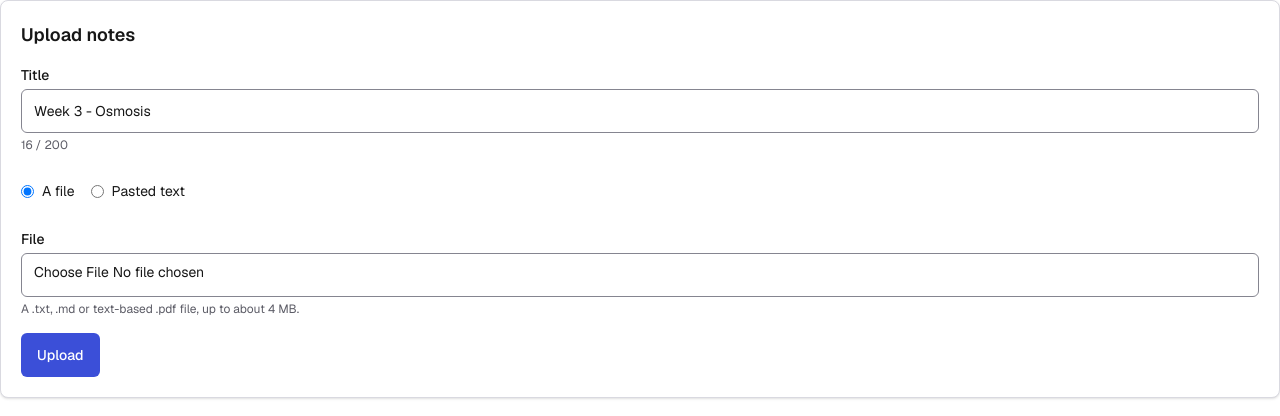
UploadForm › sends the chosen file, with the title taken from its name
The width and height of the screenshot is (1280, 416).
Earlier steps of the test are not shown.
Expected: the field labelled "Title" holds "Week 3 - Osmosis", [21,89,1259,133]
Click the button "Upload": [60, 355] box [21,333,100,377]
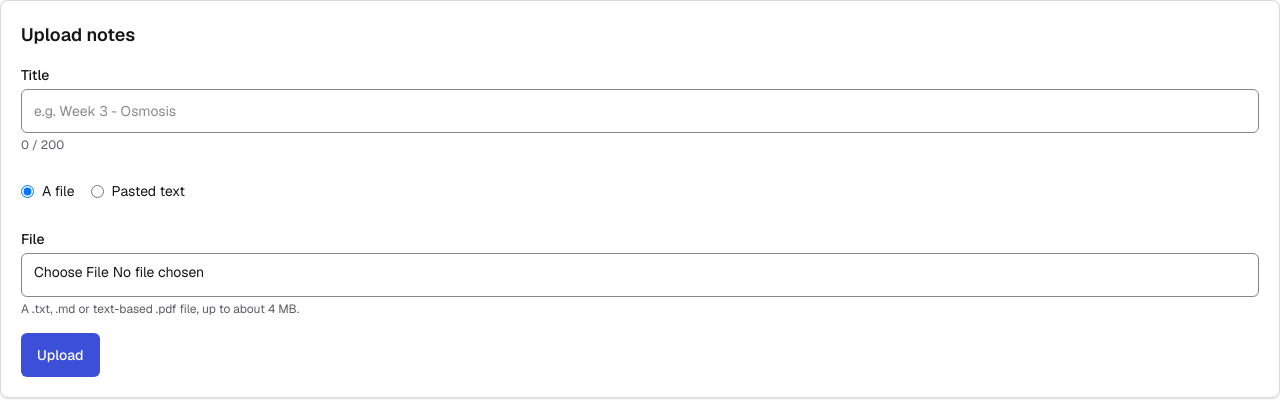
Expected: the field labelled "Title" is empty, [21,89,1259,133]
